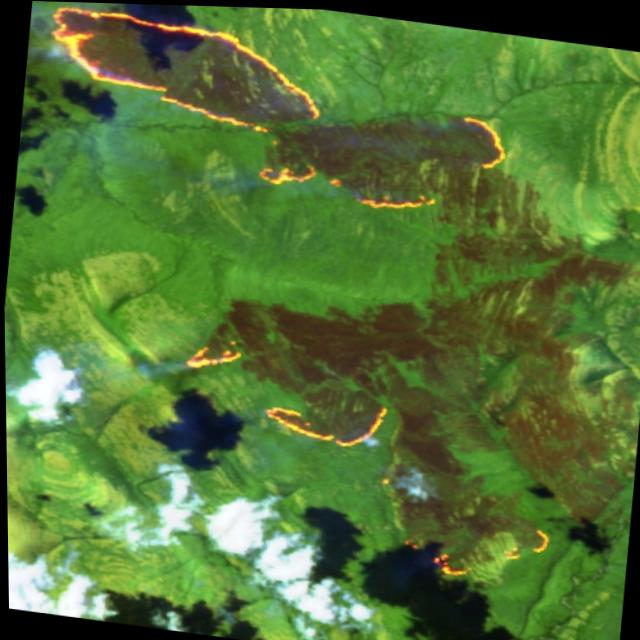fire: (15, 0, 528, 227), (149, 295, 409, 471), (393, 497, 562, 588)
